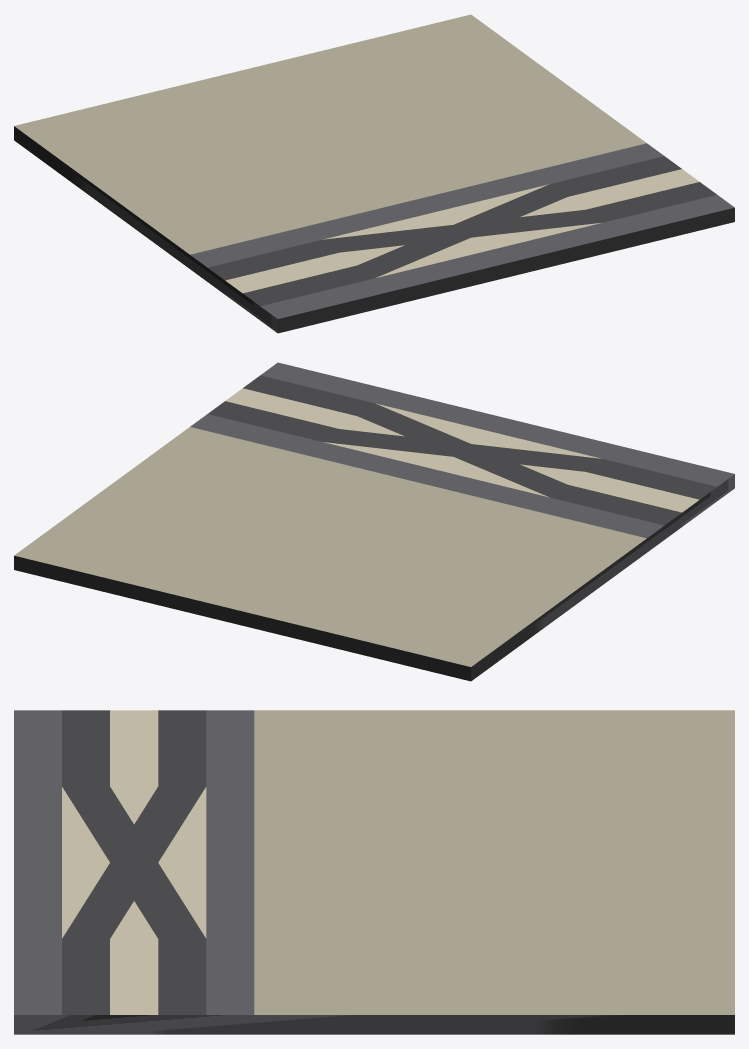
File: Tile_Floor_02.glb
3 views of the same model, one above another, from view 1: azimuth 30°, elevation 25°; view 2: azimuth 150°, elevation 25°; view 3: azimuth 270°, elevation 25° (orthographic). The views are drawn at different scales.
Parts seen in each view (by area): view 1: Tile_Floor_02; view 2: Tile_Floor_02; view 3: Tile_Floor_02.
Part boxes in pixels (box(x1,y1,x2,y2)): Tile_Floor_02: box(14, 14, 734, 333); Tile_Floor_02: box(14, 362, 734, 681); Tile_Floor_02: box(14, 710, 734, 1034).
Size of what is drawn, in the model's own units: 1 by 0.03 by 1.
1 material, 1 textured.
